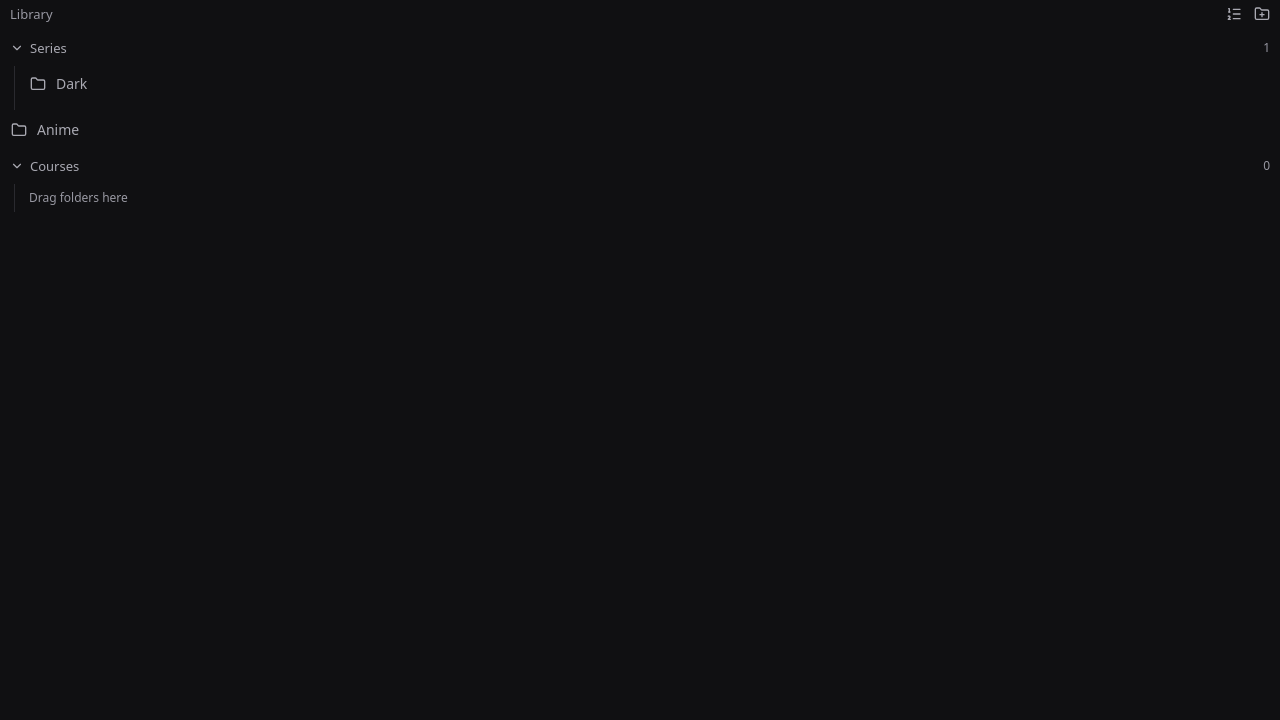
Test: library groups › asks before deleting a group with folders, which stay where the group was
The width and height of the screenshot is (1280, 720).
Note: An empty group goes at once.
Step 1. Right-click the button named "Courses, 0 folders" → (55, 166), box 0,150 -> 1279,182
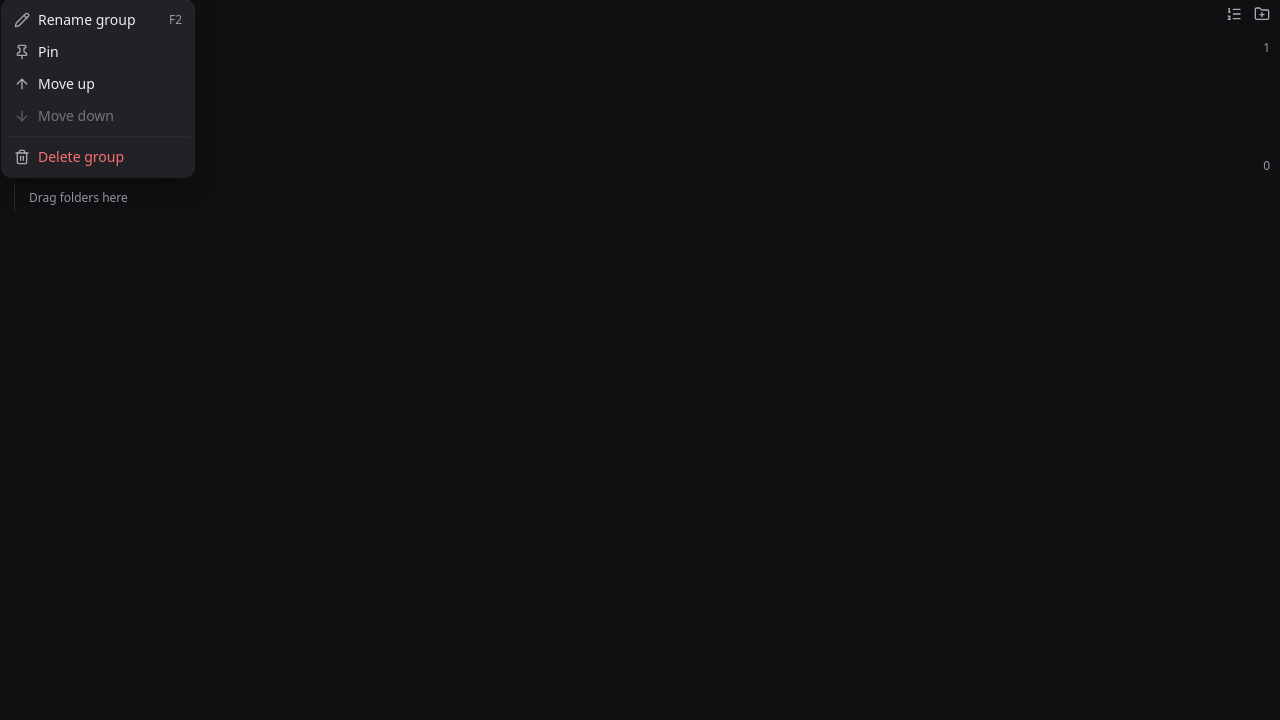
Step 2. Click the menu item "Delete group" → (69, 156), box 14,147 -> 124,166
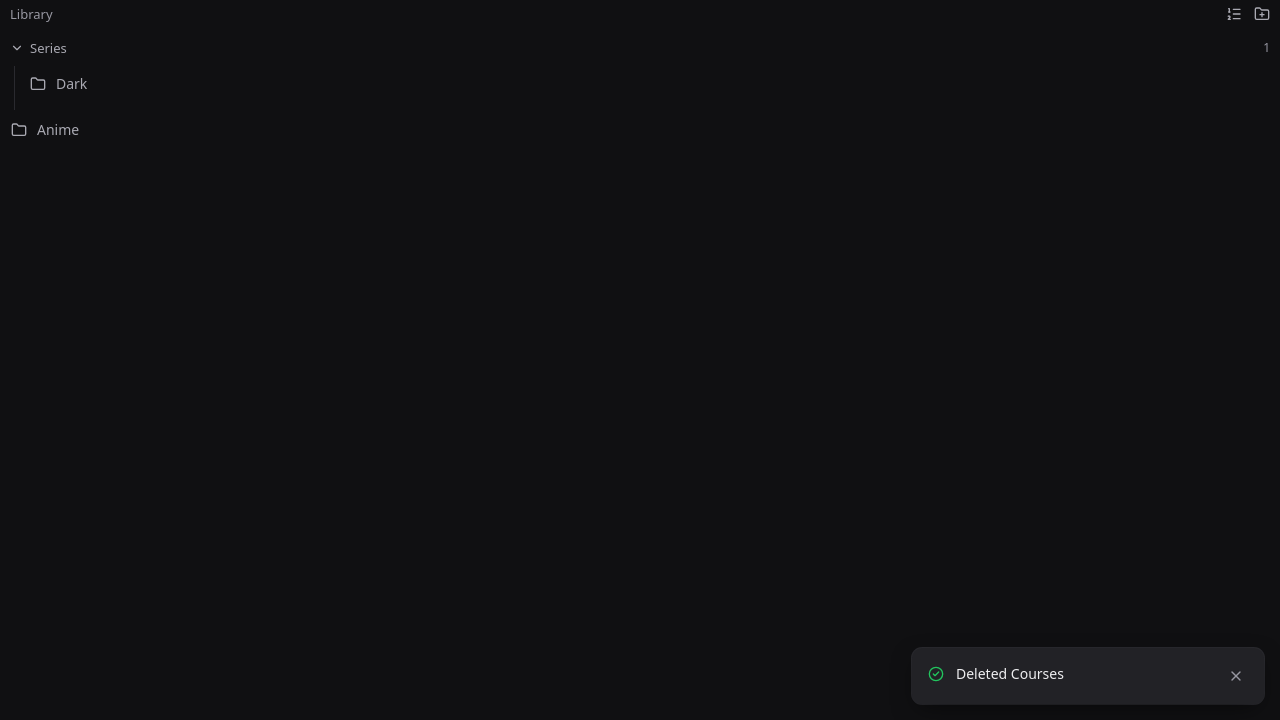
Step 3. Right-click the button named "Series, 1 folder" → (48, 48), box 0,32 -> 1279,64
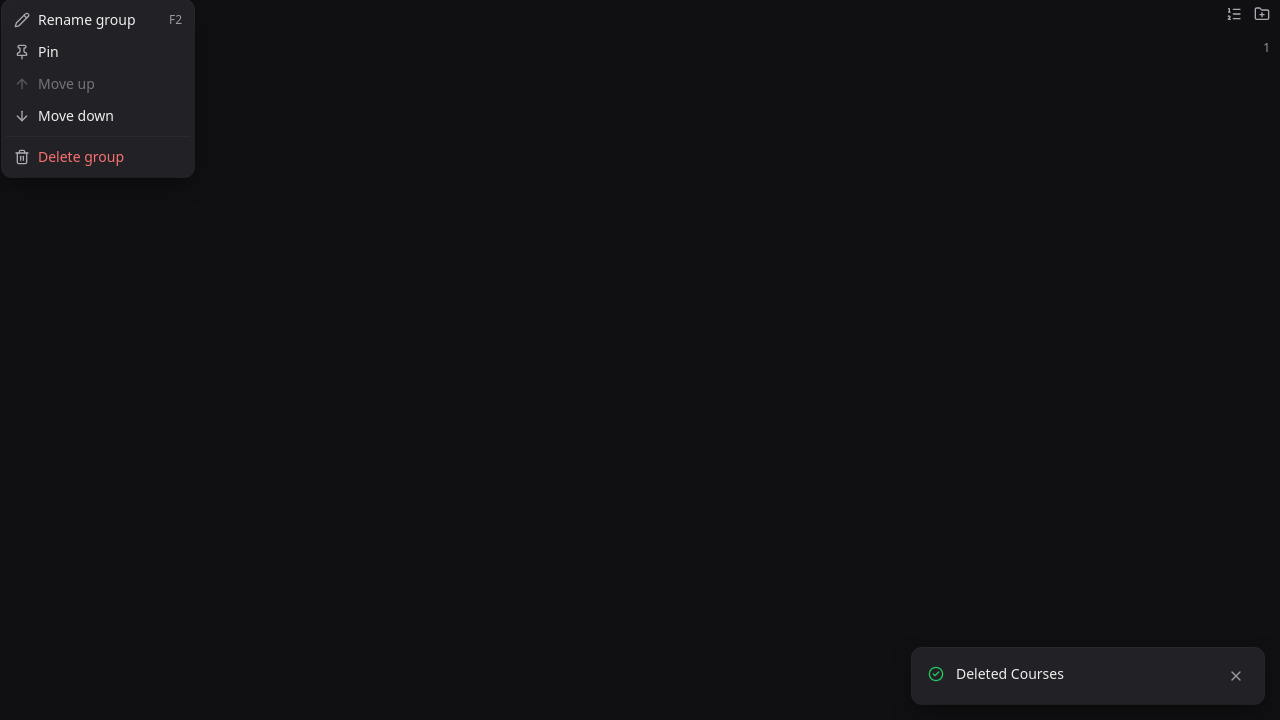
Step 4. Click the menu item "Delete group" → (69, 156), box 14,147 -> 124,166
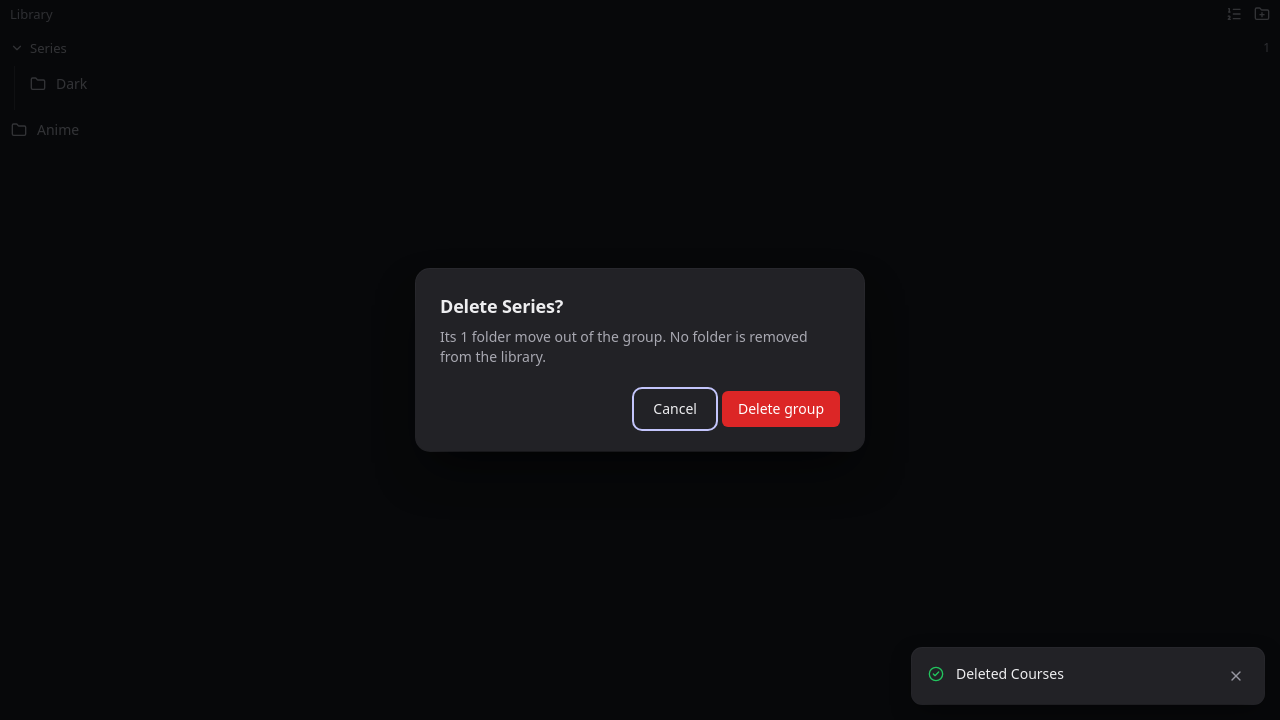
Now the dialog "Delete Series?" shows "No folder is removed from the library", box 440,327 -> 808,366
Step 5. Click the button "Delete group" → (781, 409), box 722,391 -> 840,427
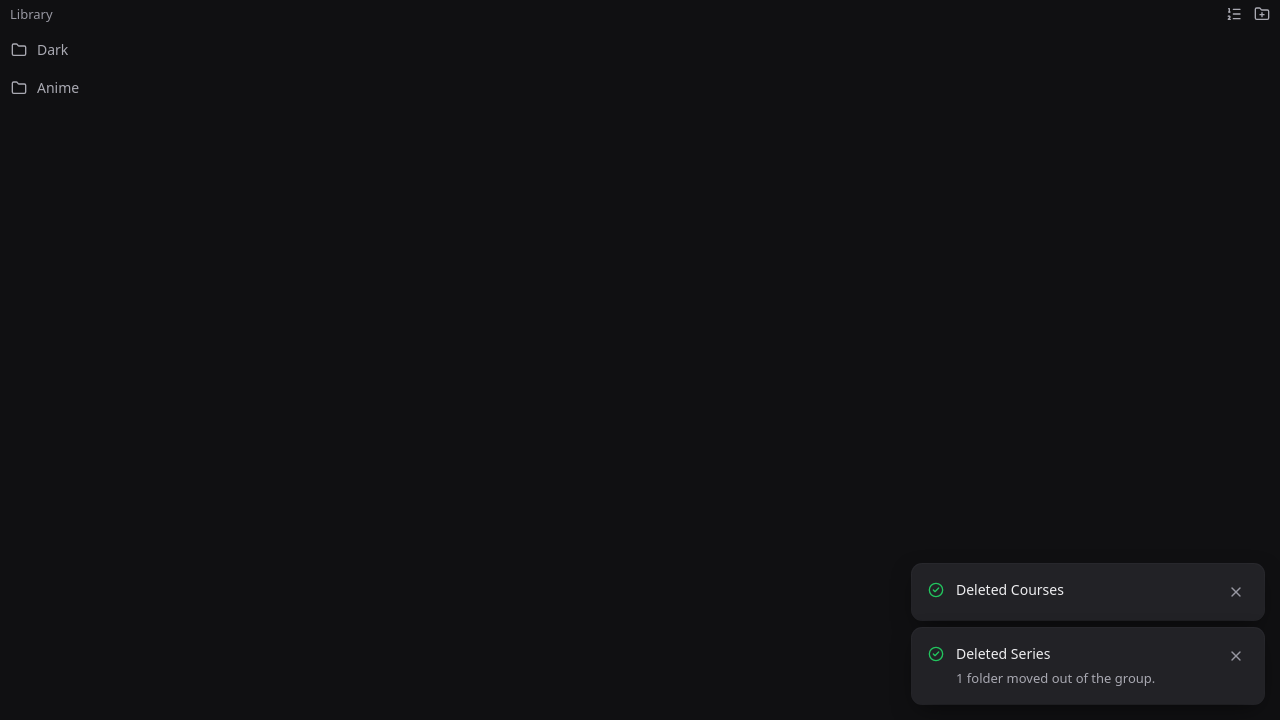
Now the text "Deleted Series" is shown, box 956,644 -> 1050,663
Now the text "1 folder moved out of the group." is shown, box 956,669 -> 1155,687
